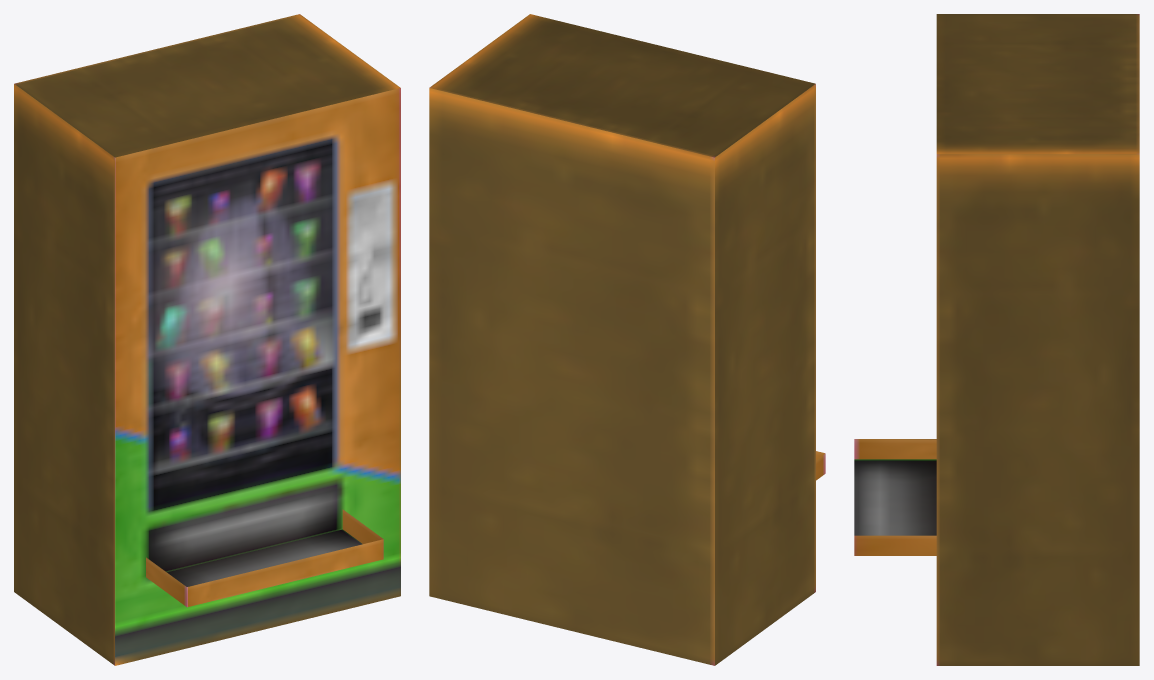
Rendered from vending m.glb.
The picture shows the model from 3 angles, left to right: view 1: azimuth 30°, elevation 25°; view 2: azimuth 150°, elevation 25°; view 3: azimuth 270°, elevation 25°; orthographic projection.
Visible parts, largest first — view 1: vending m; view 2: vending m; view 3: vending m.
Boxes of the visible parts, left/top/right/bottom form: vending m: left=14, top=14, right=400, bottom=665; vending m: left=429, top=14, right=825, bottom=665; vending m: left=854, top=14, right=1139, bottom=665.
Bounding box in the file's own units: 237 × 403 × 204.
1 material, 1 textured.
